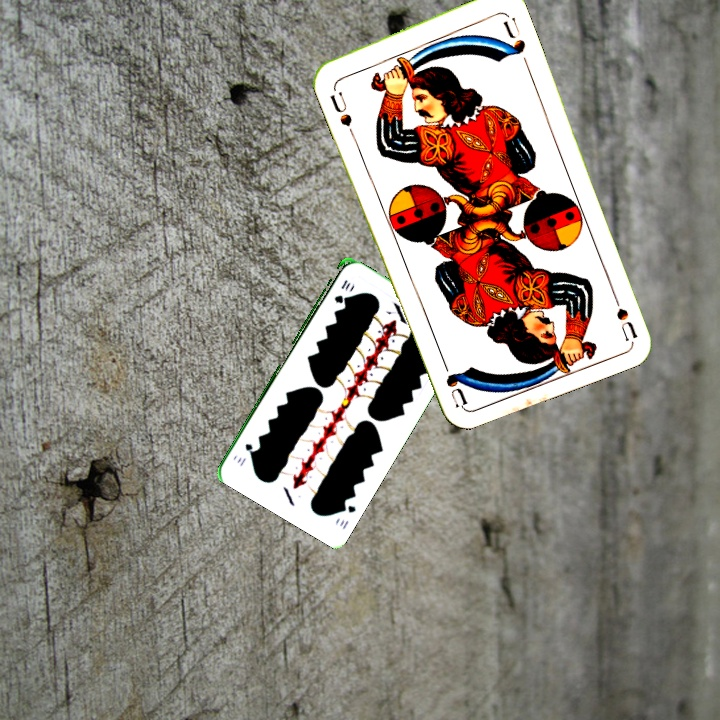G10: (335, 499, 358, 532), (330, 275, 353, 305)
SU: (606, 284, 639, 342), (326, 87, 356, 137)
